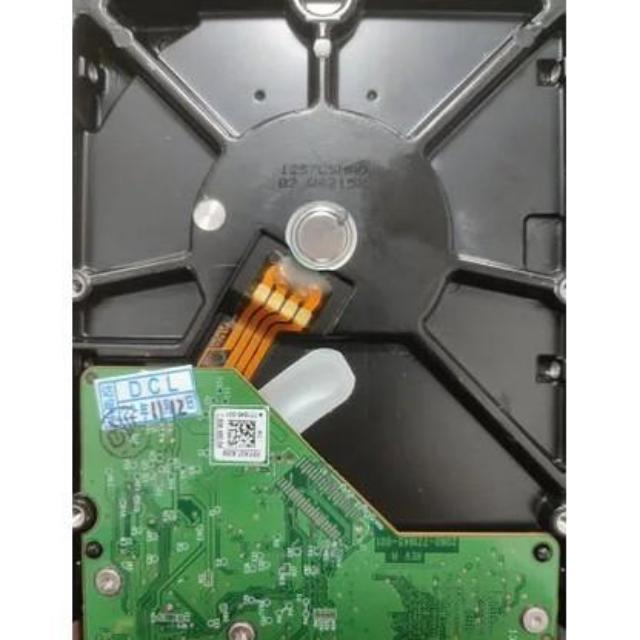DISK: (61, 0, 570, 640)
